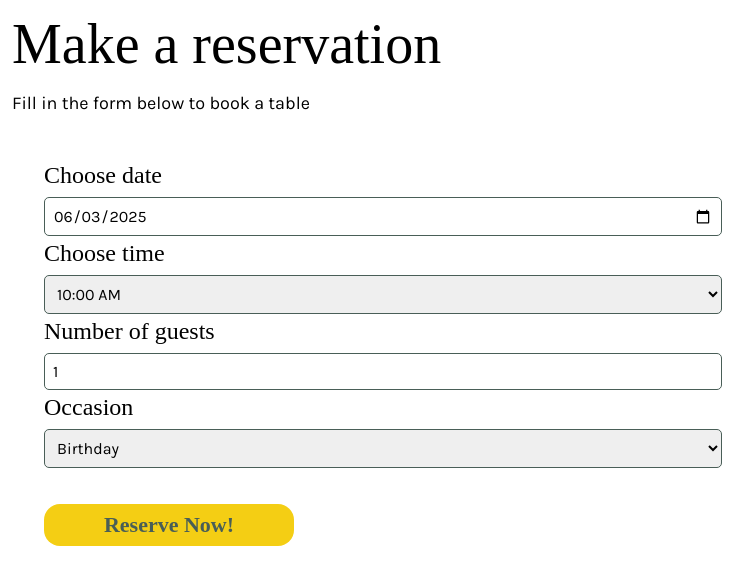
it: BookingForm › should display an error message and disable sumbit button when date         field's value is empty
Clear the date field labelled "Choose date" at (383, 216), box x1=44 y1=197 x2=722 y2=236
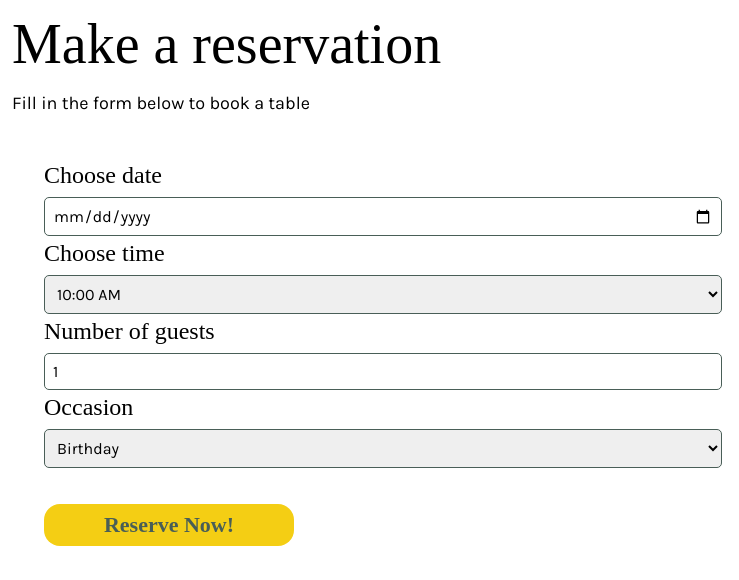
Click the button.
click(169, 525)  # box x1=44 y1=504 x2=294 y2=546
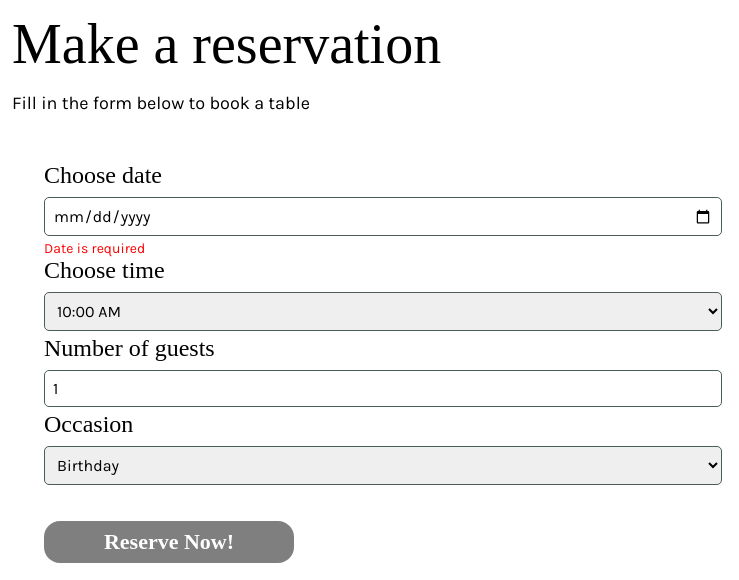
Check: the text "Date is required" is shown, box x1=44 y1=240 x2=145 y2=257
Check: the button is disabled, box x1=44 y1=521 x2=294 y2=563
